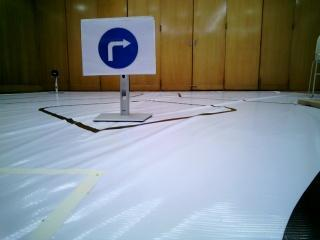right: (82, 20, 156, 75)
